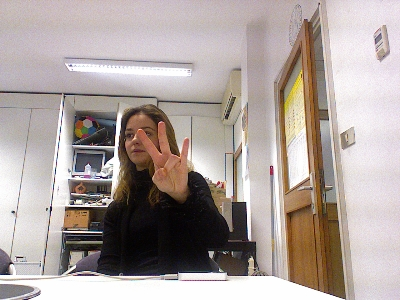观音: (136, 120, 189, 194)
